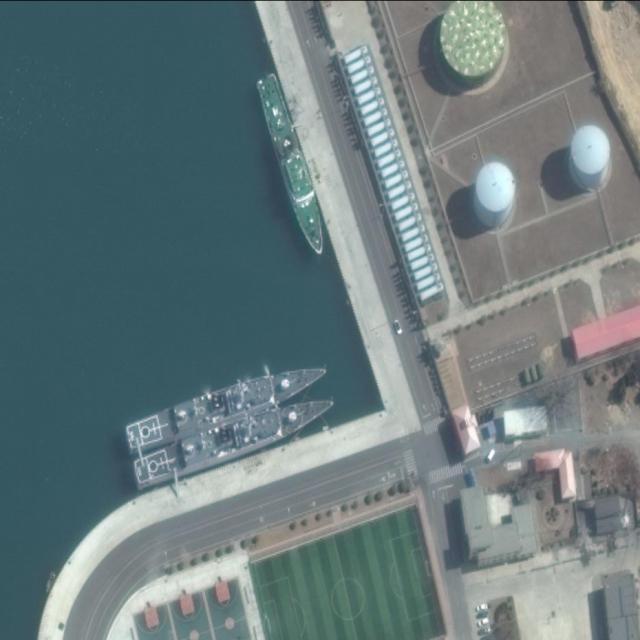Auxiliary Ships: (128, 390, 340, 486), (120, 360, 332, 452)
Other Warship: (253, 71, 332, 259)
